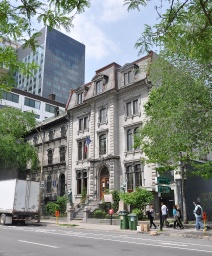truck: (1, 176, 42, 228)
